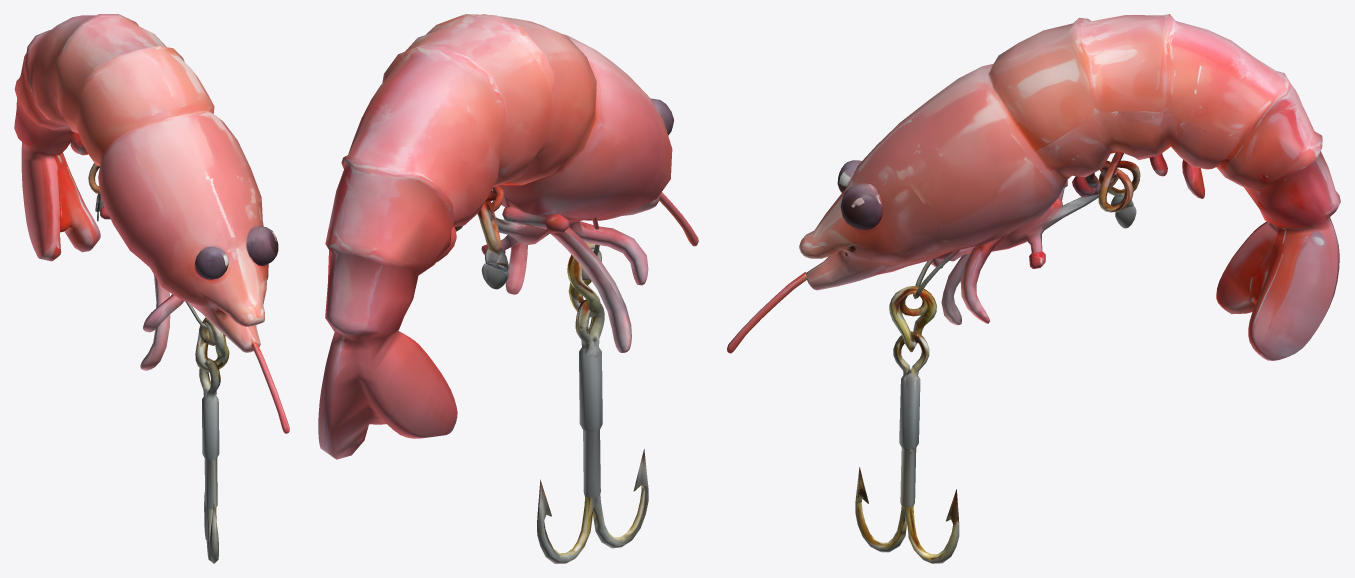
The model's file is lure.fbx.
3 renders of one model, left to right at view 1: azimuth 30°, elevation 25°; view 2: azimuth 150°, elevation 25°; view 3: azimuth 270°, elevation 25°, orthographic. The views are drawn at different scales.
Parts seen in each view (by area): view 1: tripo_node_e210dfc6; view 2: tripo_node_e210dfc6; view 3: tripo_node_e210dfc6.
Part boxes in pixels (x1,y1,x2,y2): tripo_node_e210dfc6: (14,14,289,563); tripo_node_e210dfc6: (318,14,698,563); tripo_node_e210dfc6: (727,14,1340,563).
Bounding box in the file's own units: 0.2993 × 0.9663 × 0.9995.
Materials: 1 (1 with a texture image).
